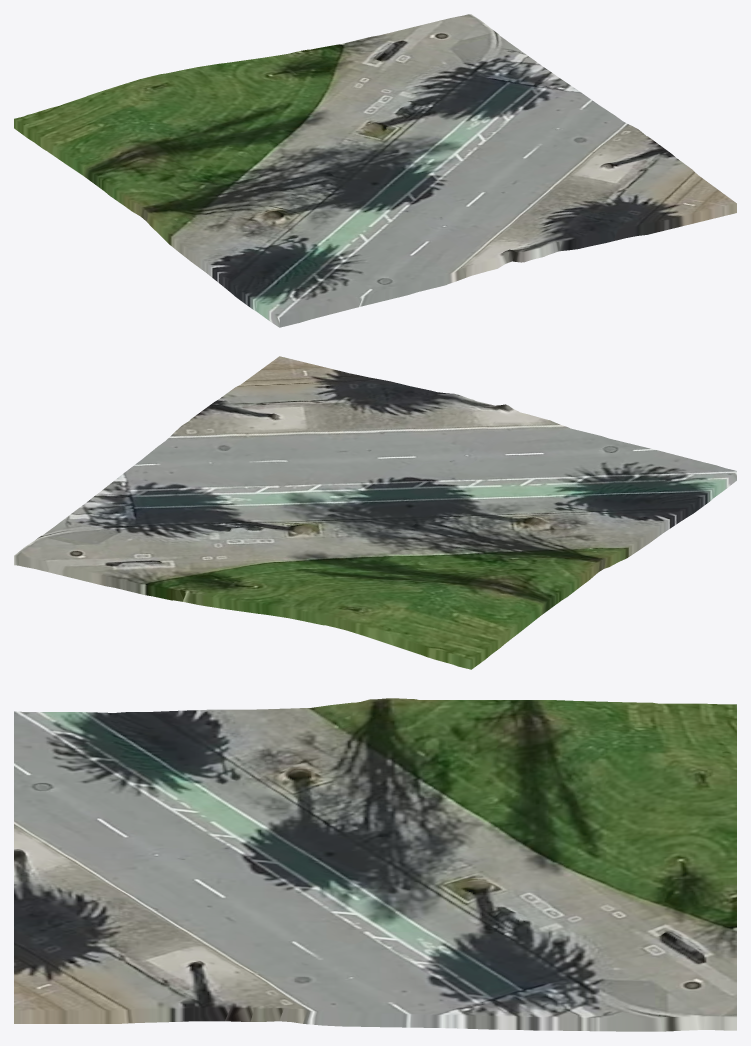
Rendered from z20-167785-405217-h0-yup-uvflip-v3-world.glb.
3 views of the same model, one above another, from view 1: azimuth 30°, elevation 25°; view 2: azimuth 150°, elevation 25°; view 3: azimuth 270°, elevation 25° (orthographic). The views are drawn at different scales.
Size of the model in its own units: 30.16 by 1.72 by 30.32.
1 material, 1 textured.
